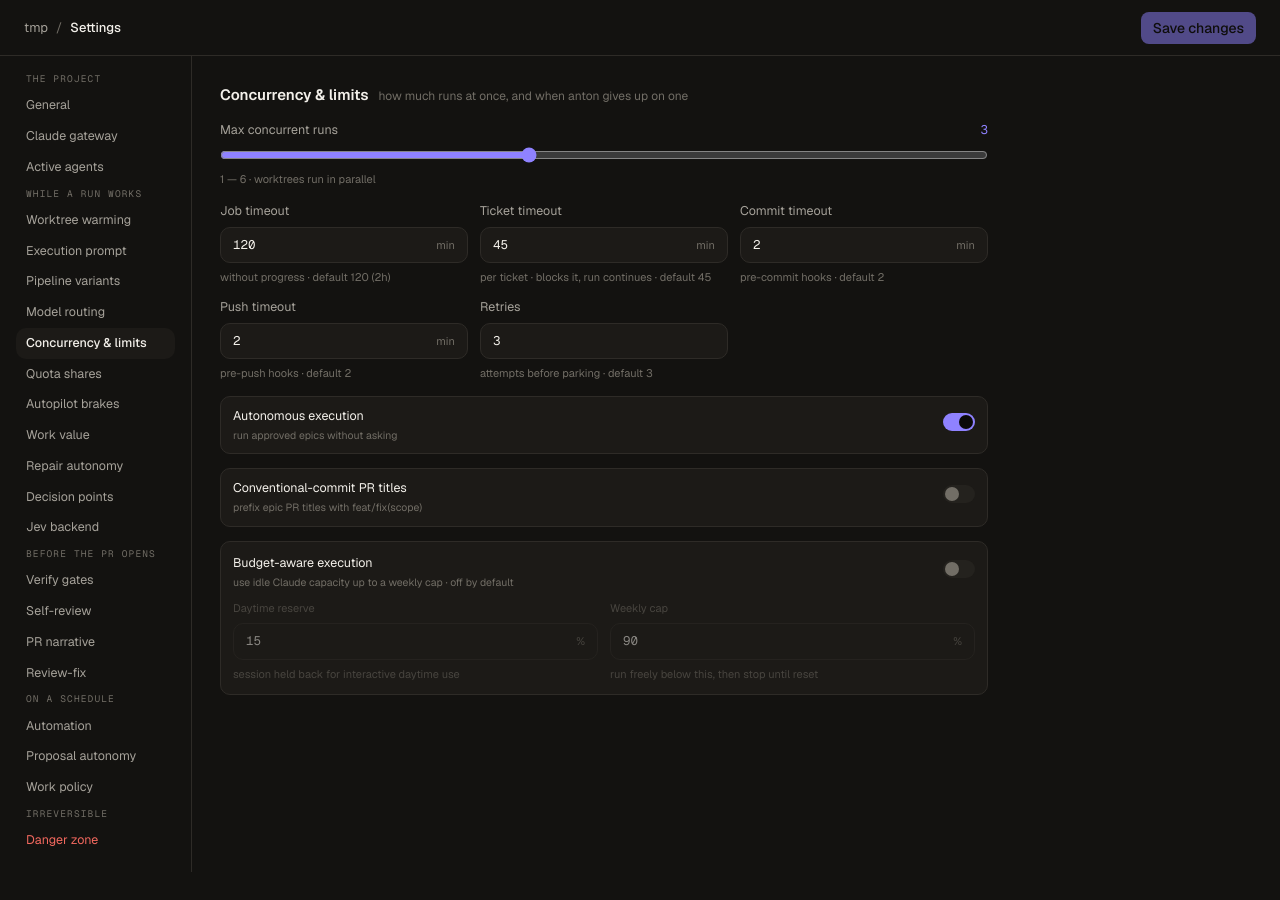
Test case: SettingsView budget policy (anton-egrg) › clamps an out-of-range knob to [0,100]
Click the switch named "Budget-aware execution" at (959, 568), box [943, 560, 975, 578]
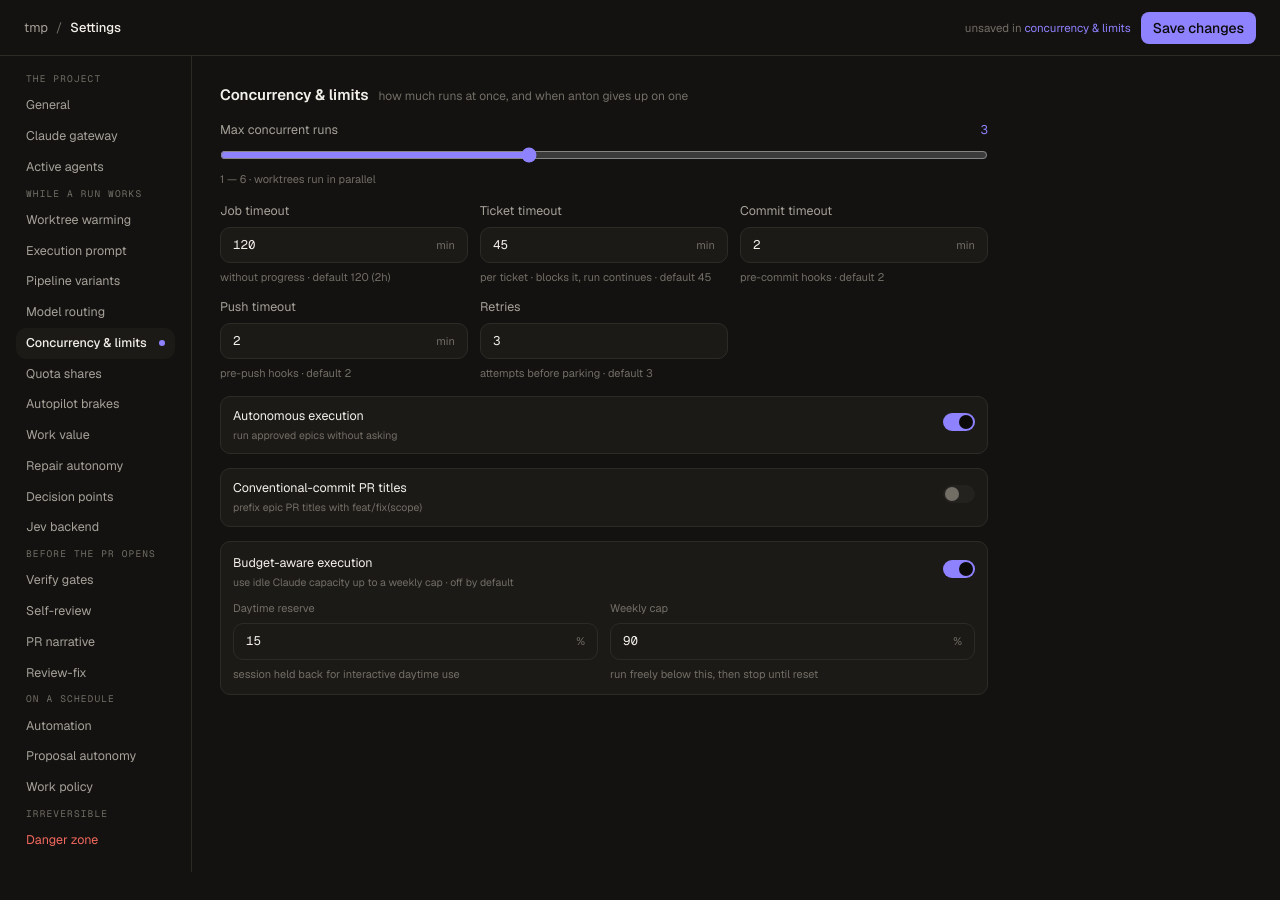
Replace the text in the number field labelled "Daytime reserve" with "150" at (416, 641), box [234, 624, 597, 659]
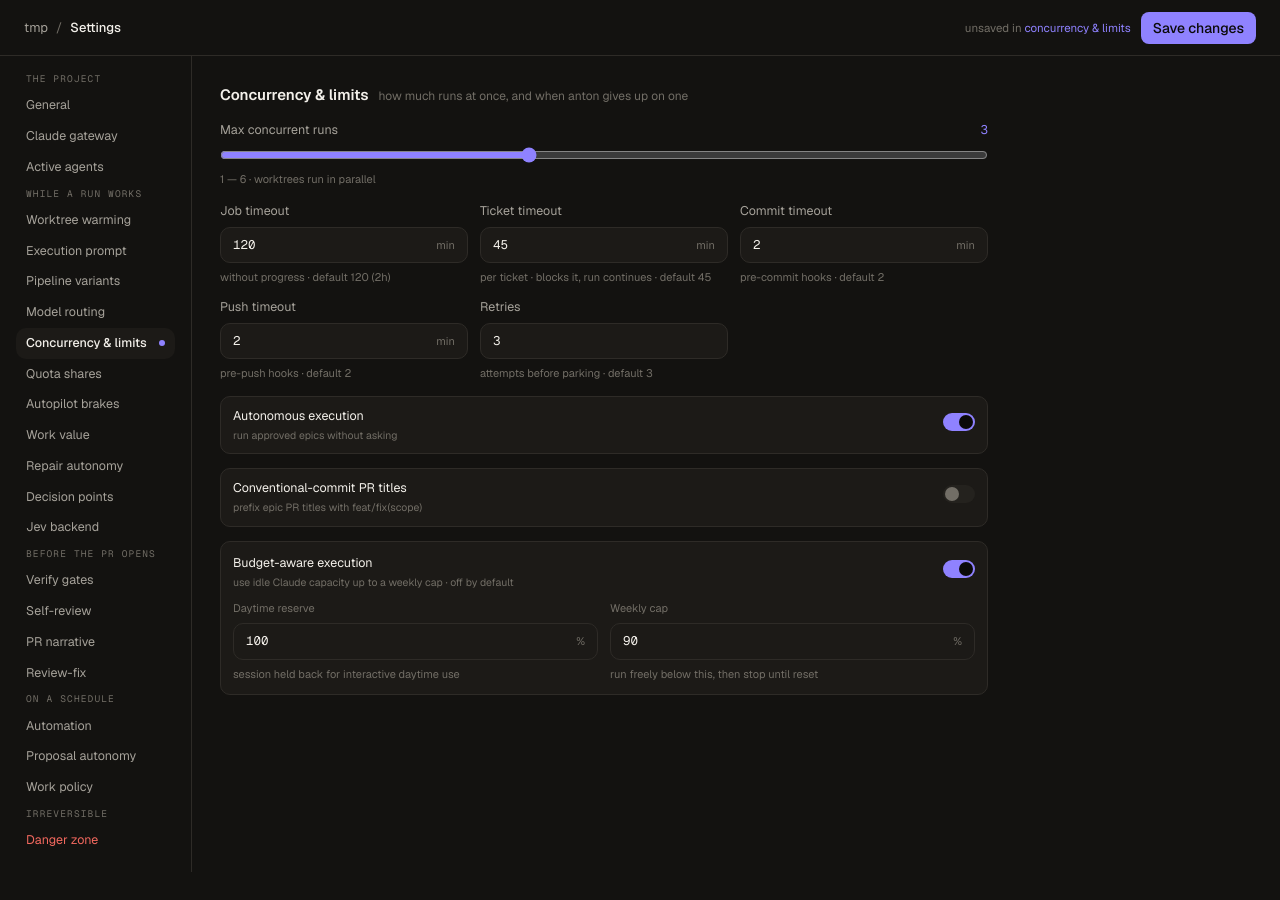
Result: the number field labelled "Daytime reserve" holds "100" at [234, 624, 597, 659]
